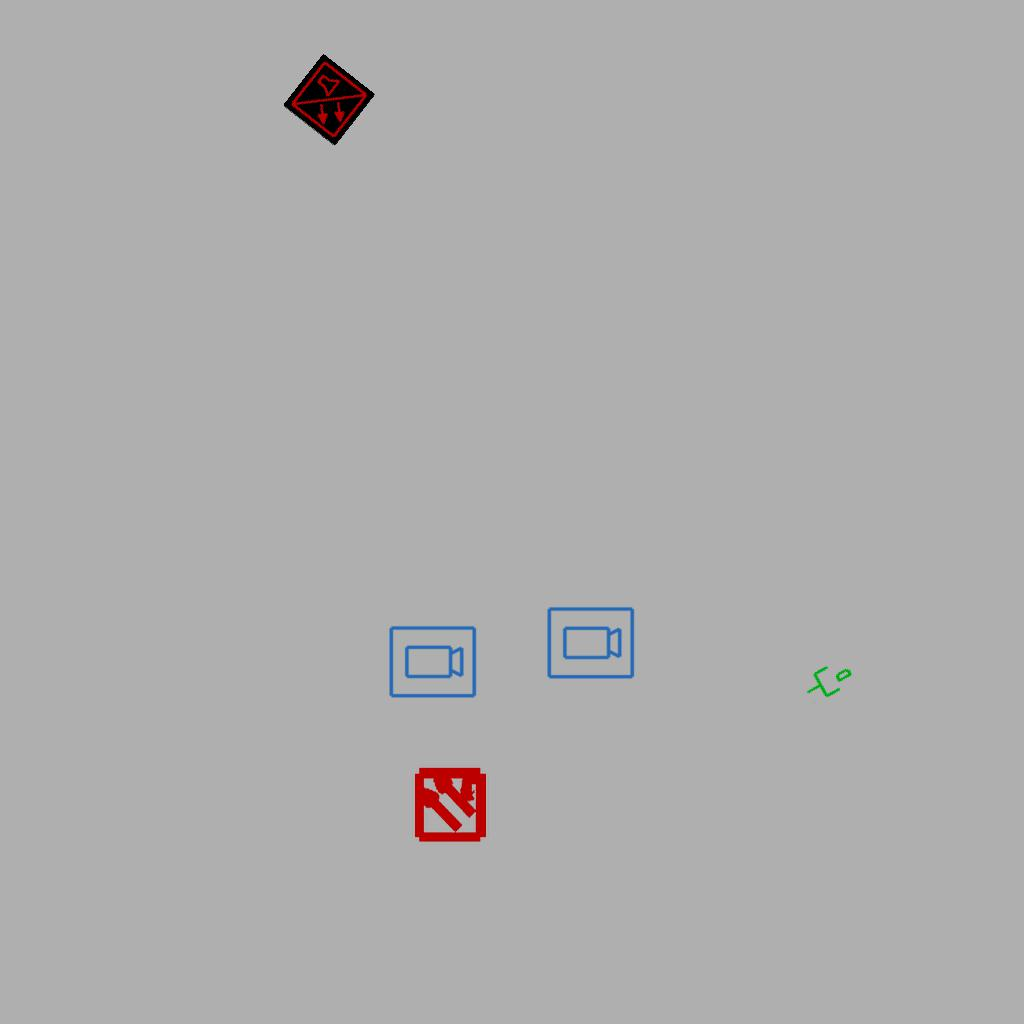Datenanschluss_einfach: (797, 653, 859, 707)
KFO_Kamera_mit_Festobjektiv: (387, 624, 478, 701), (545, 605, 636, 682)
OKW_Multisensormelder_(Kombination_optischer_Rauch-Kahlenmonoxid_Waerme-Melder): (282, 53, 376, 147)
OT_Multisensormelder_(Kombination_RMO_WMD): (394, 746, 507, 859)
